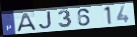1: (103, 5, 113, 25)
3: (58, 9, 73, 29)
4: (117, 4, 131, 24)
6: (77, 8, 92, 27)
A: (16, 12, 38, 33)
J: (38, 10, 53, 30)
